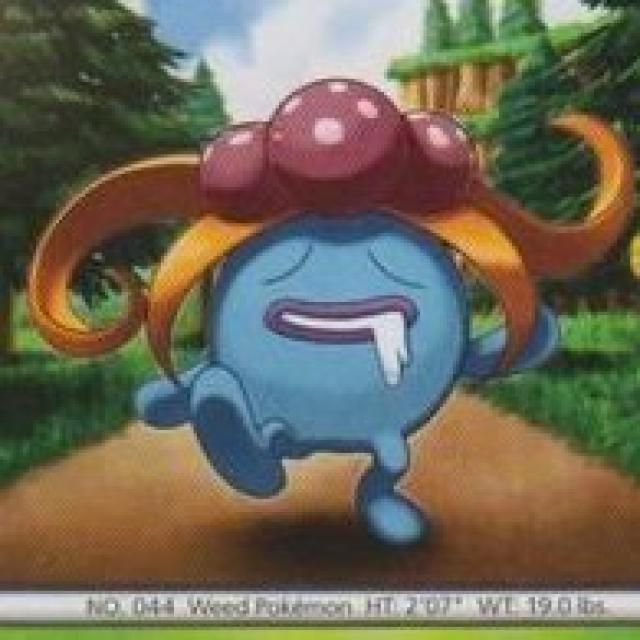Gloom: (154, 79, 514, 525)
